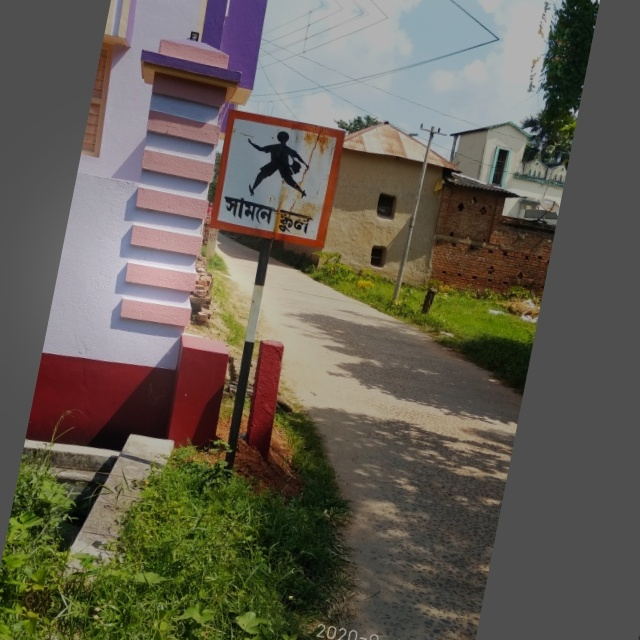School_Ahead: (213, 110, 344, 245)
